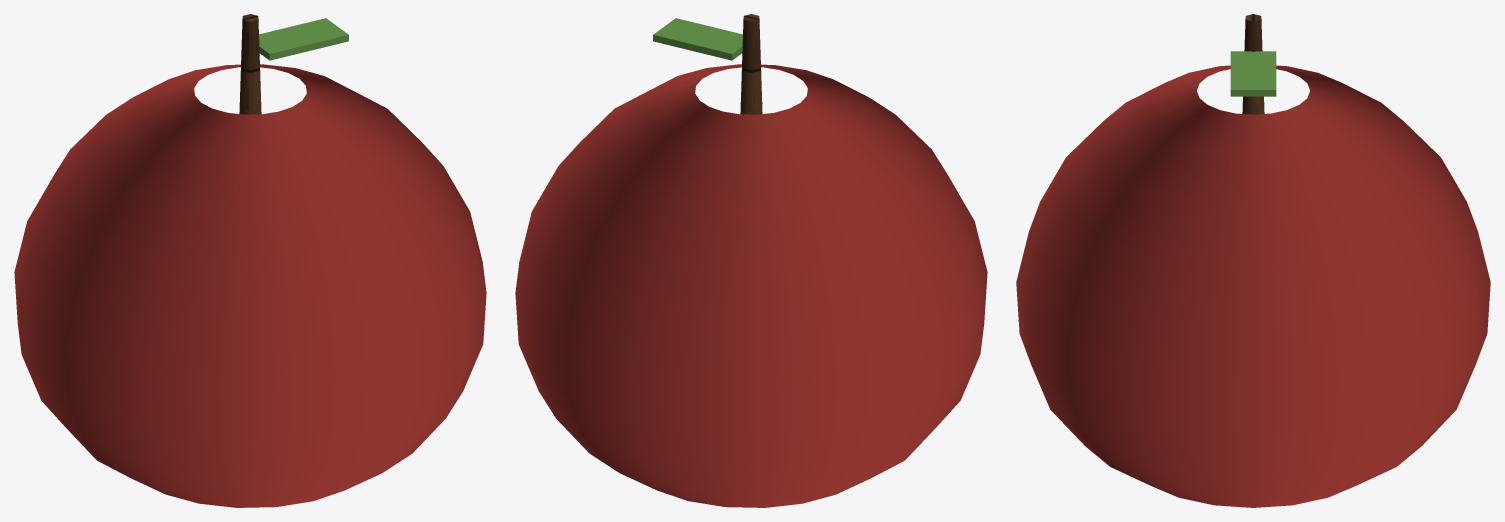
Rendered from apple.glb.
3 renders of one model, left to right at view 1: azimuth 30°, elevation 25°; view 2: azimuth 150°, elevation 25°; view 3: azimuth 270°, elevation 25°, orthographic.
Visible parts, largest first — view 1: apple; view 2: apple; view 3: apple.
Part boxes in pixels (x1,y1,x2,y2): apple: (14,14,486,507); apple: (515,14,987,507); apple: (1016,14,1490,507).
Bounding box in the file's own units: 0.26 × 0.281 × 0.26.
3 materials, 1 textured.
